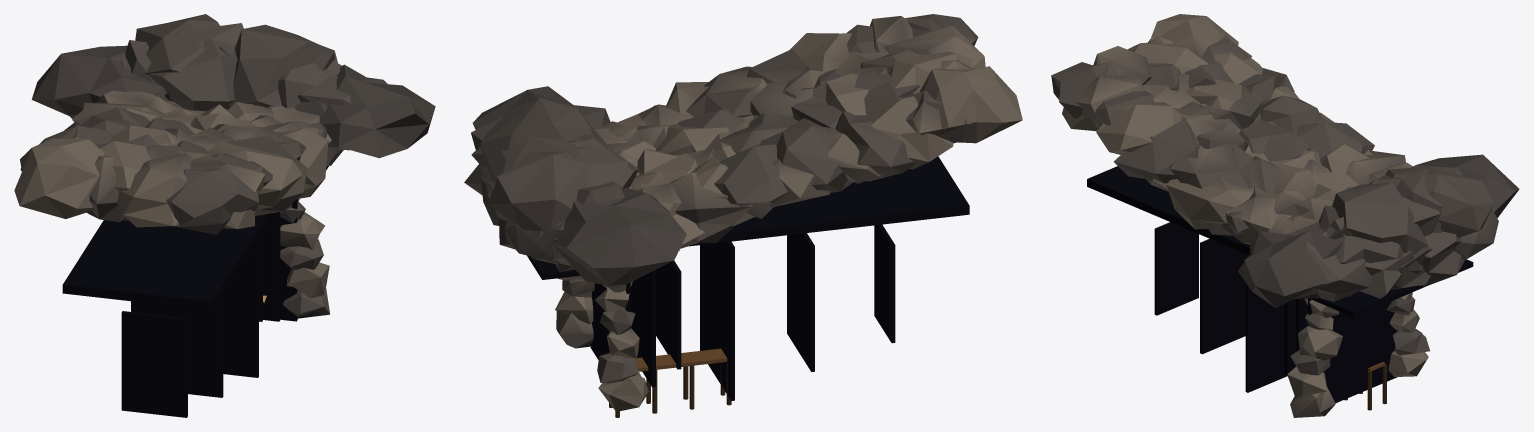
Rendered from coast_smugglers_throat_lod1.glb.
3 views of the same model, side by side, from view 1: azimuth 30°, elevation 25°; view 2: azimuth 150°, elevation 25°; view 3: azimuth 270°, elevation 25° (orthographic). The views are drawn at different scales.
Parts seen in each view (by area): view 1: geometry_0; view 2: geometry_0; view 3: geometry_0.
Part boxes in pixels (x1,y1,x2,y2): geometry_0: (14, 14, 435, 417); geometry_0: (464, 14, 1022, 417); geometry_0: (1051, 14, 1519, 417).
Bounding box in the file's own units: 57.32 × 36.77 × 55.29.
